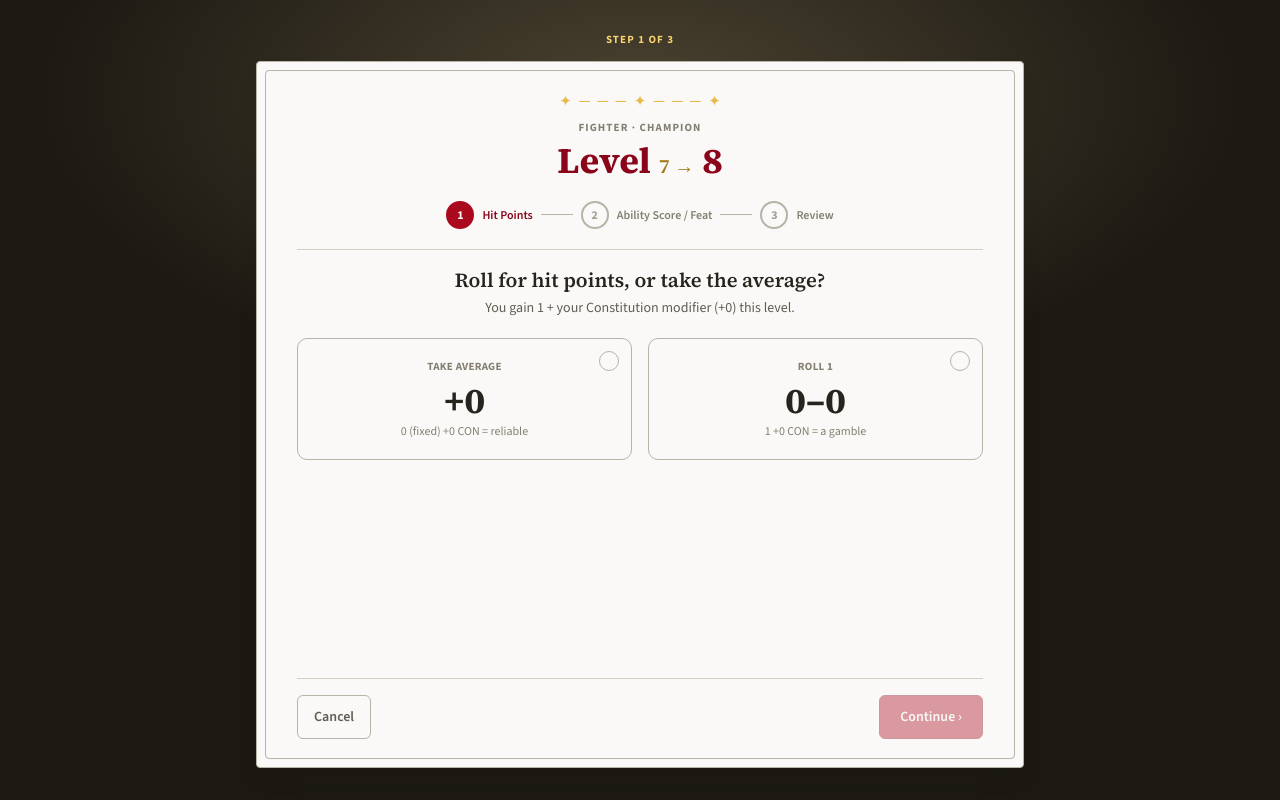
Scenario: AbilityScoreStep in the ceremony › has no axe violations on either advancement branch
The width and height of the screenshot is (1280, 800).
Expected: the text "Step 1 of 3" is shown, x1=606 y1=32 x2=674 y2=47
Click the button "Take average +0 0 (fixed) +0 CON = reliable". click: (464, 399)
box: x1=297 y1=338 x2=632 y2=460
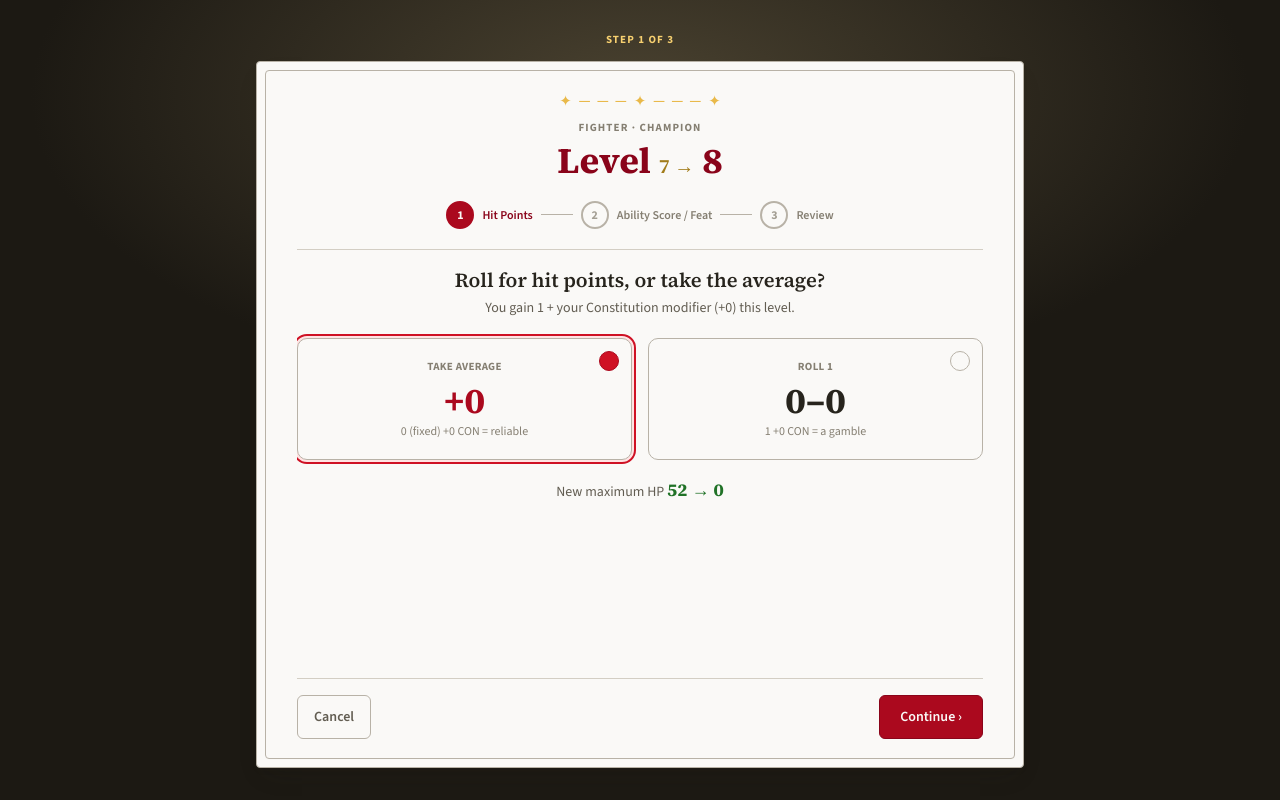
Click the button "Continue ›". click: (931, 717)
box: x1=879 y1=695 x2=983 y2=739
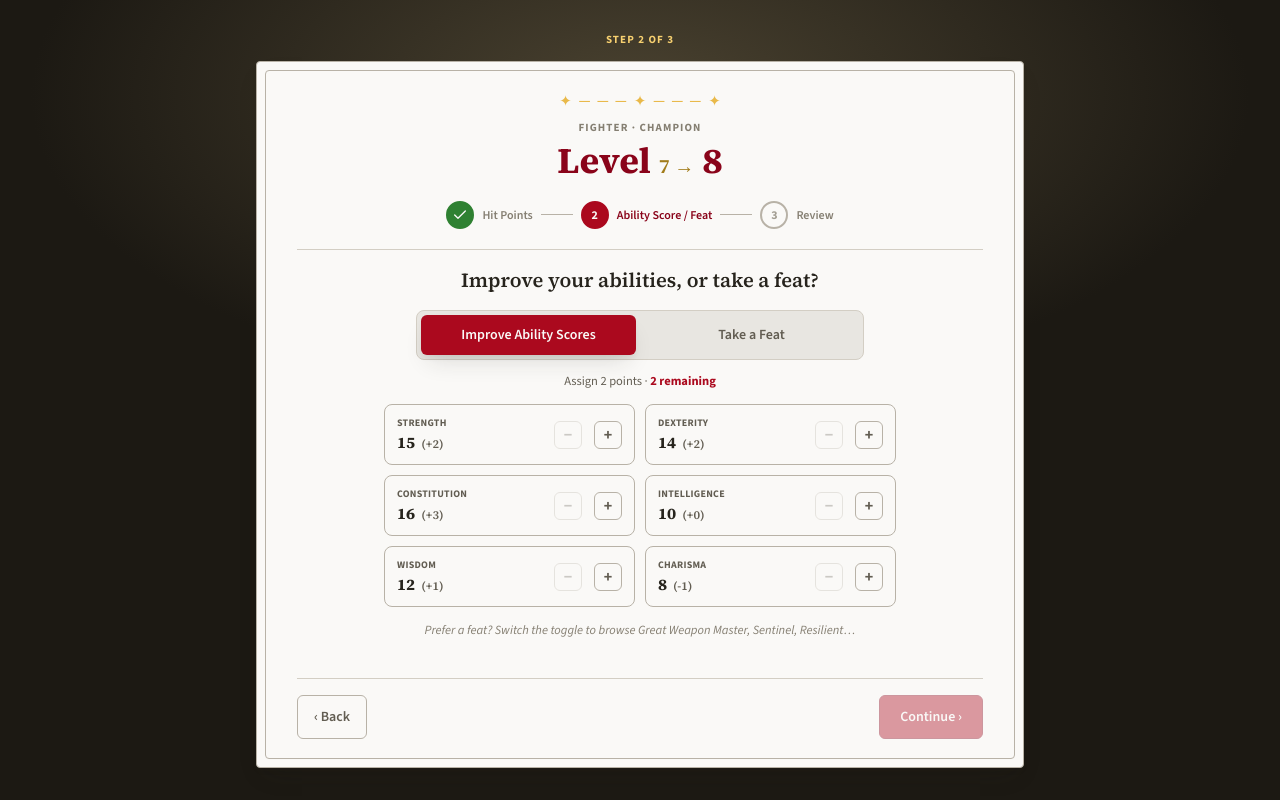
Click the button "Take a Feat". click: (752, 334)
box: x1=644 y1=314 x2=859 y2=354
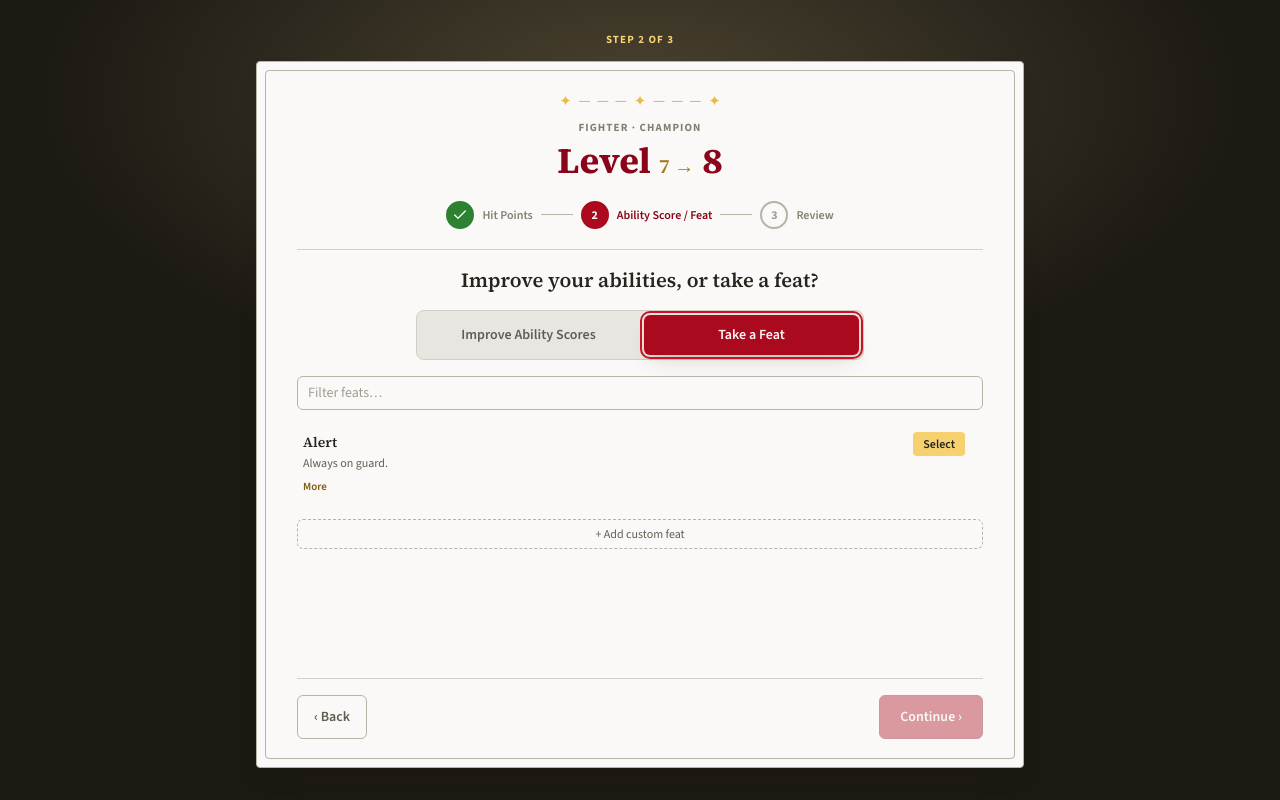
Expected: the search field with placeholder "Filter feats…" is shown, x1=297 y1=376 x2=983 y2=410
